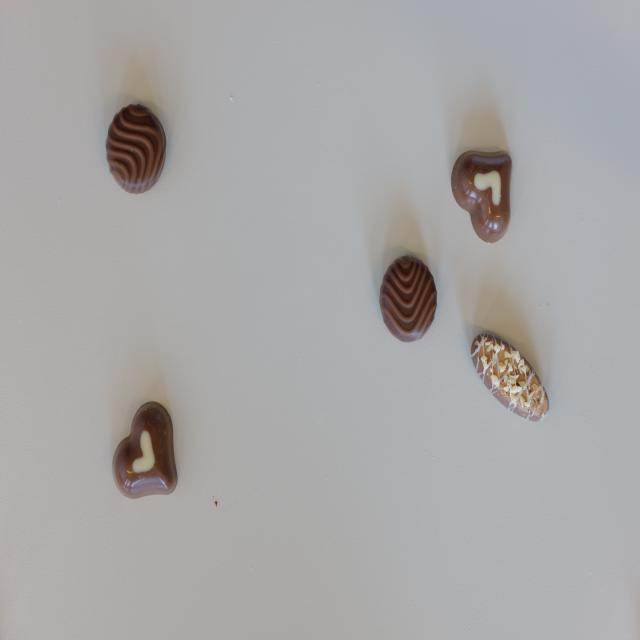Amandina: (470, 332, 549, 422)
Noir_authentique: (106, 103, 166, 194), (379, 255, 436, 342)
Passion_au_lait: (112, 402, 178, 498), (452, 151, 512, 244)
